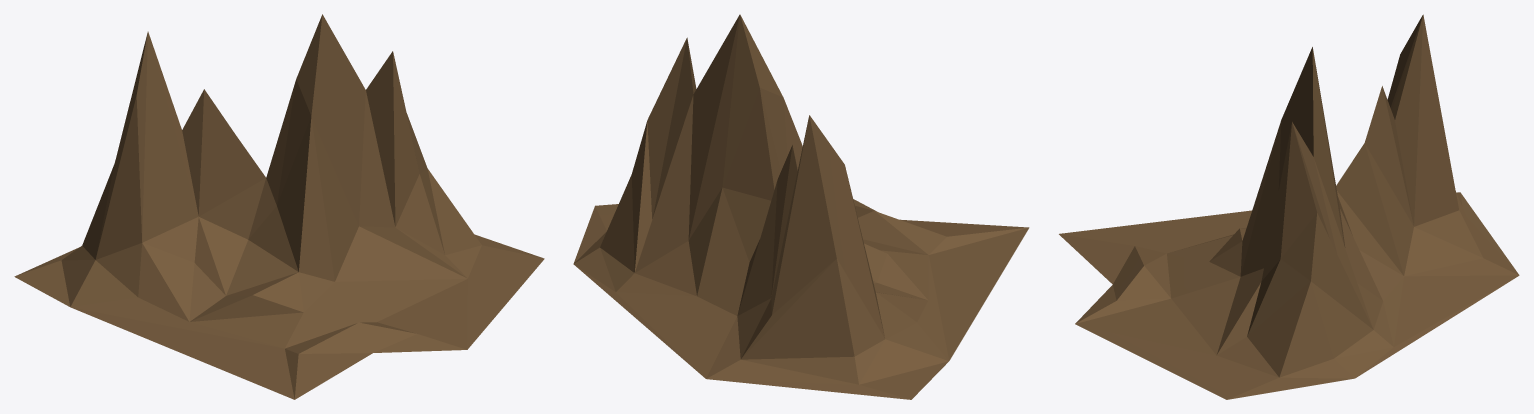
Rendered from brownHighM.fbx.
3 views of the same model, side by side, from view 1: azimuth 30°, elevation 25°; view 2: azimuth 150°, elevation 25°; view 3: azimuth 270°, elevation 25° (orthographic). The views are drawn at different scales.
Visible parts, largest first — view 1: Plane.001; view 2: Plane.001; view 3: Plane.001.
Boxes of the visible parts, bbox=[...] form: Plane.001: bbox=[14, 14, 544, 399]; Plane.001: bbox=[573, 14, 1029, 399]; Plane.001: bbox=[1059, 14, 1519, 399].
Bounding box in the file's own units: 144 × 85.3 × 135.
